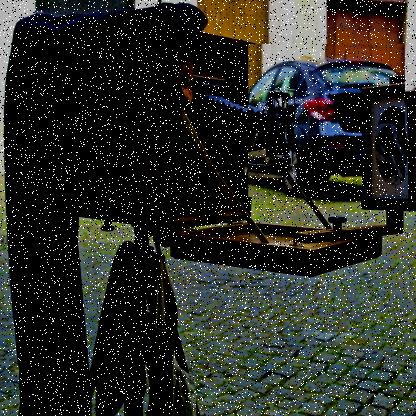Car: (248, 44, 406, 198)
